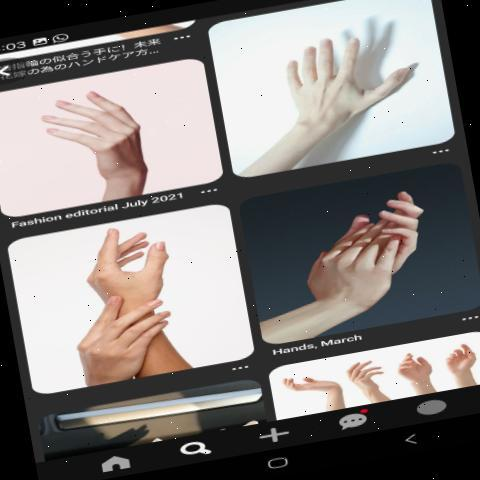Hands: (243, 18, 430, 138), (298, 188, 443, 327), (23, 87, 193, 198), (58, 290, 186, 378), (83, 227, 194, 306), (280, 366, 346, 404), (346, 354, 396, 393), (394, 348, 440, 389), (441, 338, 480, 377)
